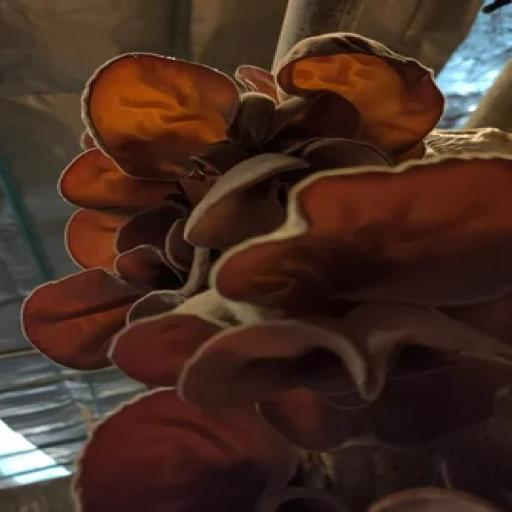mushroom: (24, 32, 512, 512)
